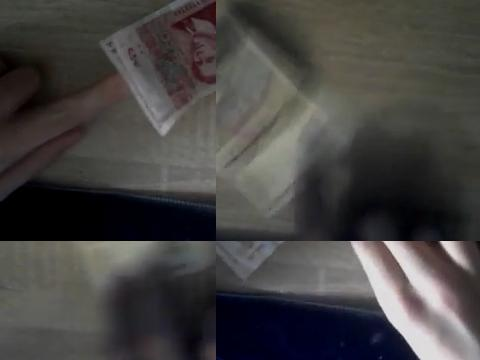10leva: (216, 0, 330, 216), (69, 241, 216, 308)
